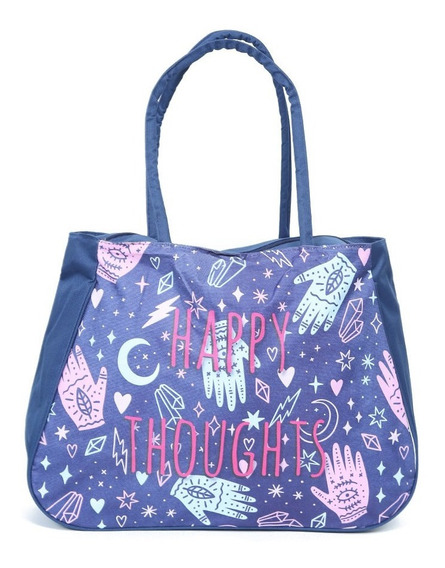cartera: (25, 28, 419, 533)
